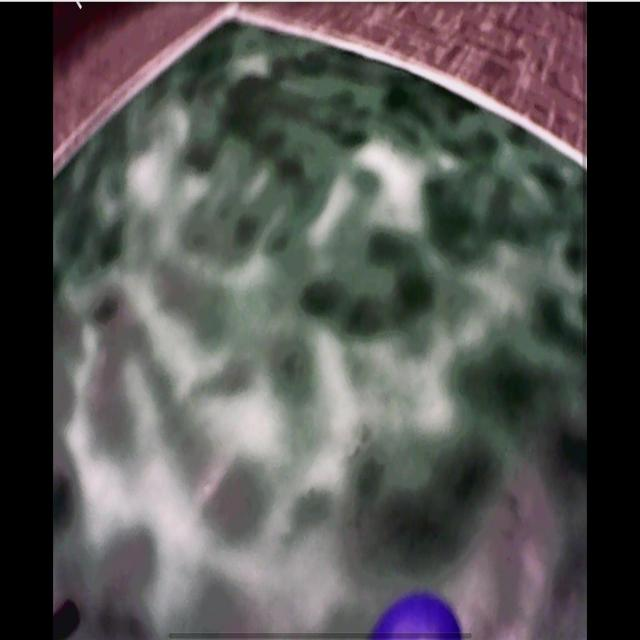ball: (373, 591, 464, 640)
